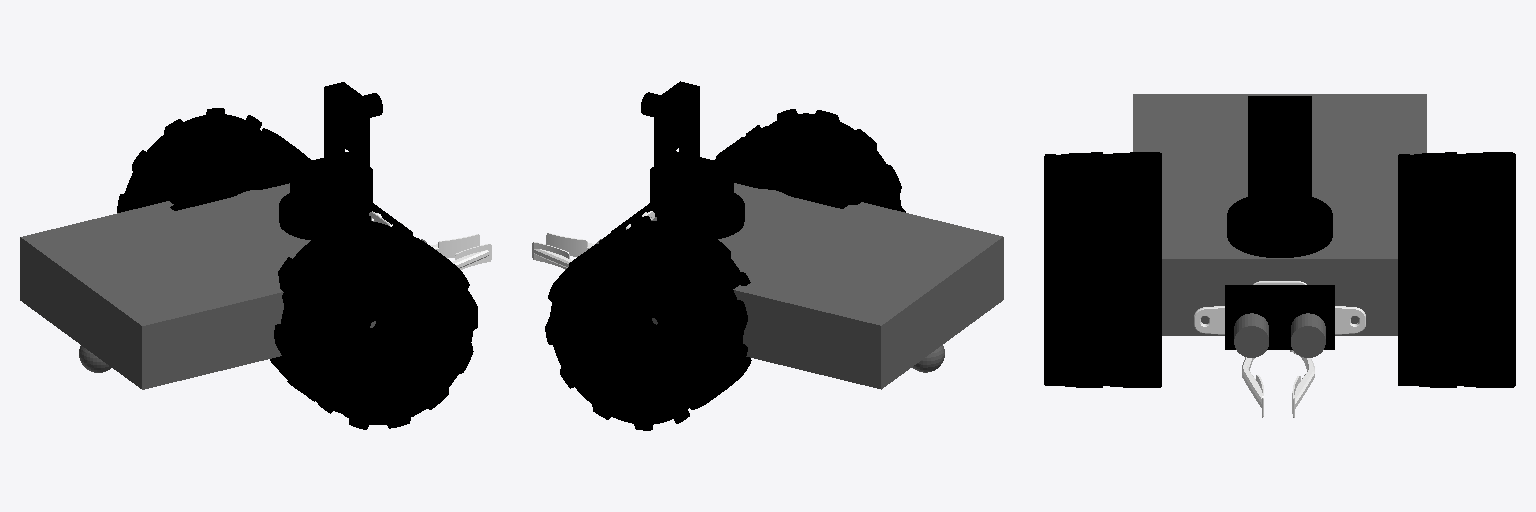
The robot description file, URDF, robot "mark":
<?xml version="1.0" encoding="utf-8"?>
<!-- =================================================================================== -->
<!-- |    This document was autogenerated by xacro from src/mark_description/urdf/mark.urdf.xacro | -->
<!-- |    EDITING THIS FILE BY HAND IS NOT RECOMMENDED                                 | -->
<!-- =================================================================================== -->
<robot name="mark">
  <material name="grey">
    <color rgba="0.45 0.45 0.45 1.0"/>
  </material>
  <material name="black">
    <color rgba="0 0 0 1.0"/>
  </material>
  <material name="blue">
    <color rgba="0 0 1.0 1.0"/>
  </material>
  <link name="world"/>
  <!-- Base -->
  <link name="base_link">
    <visual>
      <geometry>
        <box size="0.166 0.125 0.036"/>
      </geometry>
      <material name="grey"/>
    </visual>
    <collision>
      <geometry>
        <box size="0.166 0.125 0.036"/>
      </geometry>
    </collision>
  </link>
  <!-- Join the base to the "world" which will act as the unifying link of the whole robot
         This is needed for the robot to be imported properly in Unity -->
  <joint name="joint_world" type="fixed">
    <parent link="world"/>
    <child link="base_link"/>
    <origin rpy="0 0 0" xyz="0 0 0"/>
  </joint>
  <!-- Caster (i.e. back support) -->
  <link name="caster_link">
    <visual>
      <geometry>
        <sphere radius="0.010"/>
      </geometry>
      <material name="grey"/>
    </visual>
    <collision>
      <geometry>
        <sphere radius="0.010"/>
      </geometry>
    </collision>
  </link>
  <joint name="caster_to_base_joint" type="fixed">
    <parent link="base_link"/>
    <child link="caster_link"/>
    <origin xyz="-0.073 0 -0.025"/>
  </joint>
  <link name="right_wheel_link">
    <visual>
      <geometry>
        <mesh filename="package://mark_description/meshes/wheel.dae"/>
      </geometry>
    </visual>
    <collision>
      <!-- The cylinder for the collision needs to be rotated 90 degrees (in radians) -->
      <origin rpy="1.560795 0 0" xyz="0 0 0"/>
      <geometry>
        <cylinder length="0.027" radius="0.031"/>
      </geometry>
    </collision>
  </link>
  <joint name="joint_right_wheel" type="continuous">
    <parent link="base_link"/>
    <child link="right_wheel_link"/>
    <origin rpy="0 0 0" xyz="0.045 0.075 -0.005"/>
    <!-- Rotation on the y-axis -->
    <axis xyz="0 1 0"/>
  </joint>
  <link name="left_wheel_link">
    <visual>
      <geometry>
        <mesh filename="package://mark_description/meshes/wheel.dae"/>
      </geometry>
    </visual>
    <collision>
      <!-- The cylinder for the collision needs to be rotated 90 degrees (in radians) -->
      <origin rpy="1.560795 0 0" xyz="0 0 0"/>
      <geometry>
        <cylinder length="0.027" radius="0.031"/>
      </geometry>
    </collision>
  </link>
  <joint name="joint_left_wheel" type="continuous">
    <parent link="base_link"/>
    <child link="left_wheel_link"/>
    <origin rpy="0 0 0" xyz="0.045 -0.075 -0.005"/>
    <!-- Rotation on the y-axis -->
    <axis xyz="0 1 0"/>
  </joint>
  <!-- Support that provides panning -->
  <link name="camera_pan_support_link">
    <visual>
      <geometry>
        <cylinder length="0.01" radius="0.0225"/>
      </geometry>
      <material name="black"/>
    </visual>
    <collision>
      <geometry>
        <cylinder length="0.01" radius="0.0225"/>
      </geometry>
    </collision>
  </link>
  <joint name="camera_pan_support_to_base_joint" type="revolute">
    <parent link="base_link"/>
    <child link="camera_pan_support_link"/>
    <origin rpy="0 0 0" xyz="0.06 0.0 0.023"/>
    <!-- Rotation on the z-axis (pan) -->
    <axis xyz="0 0 1"/>
    <!-- -90 to 90 degrees -->
    <limit effort="1.0" lower="-1.560795" upper="1.560795" velocity="1.0"/>
  </joint>
  <!-- Support that provides base for tilting joints -->
  <link name="camera_tilt_support_link">
    <visual>
      <geometry>
        <box size="0.035 0.025 0.02"/>
      </geometry>
      <material name="black"/>
    </visual>
    <collision>
      <geometry>
        <box size="0.035 0.025 0.02"/>
      </geometry>
    </collision>
  </link>
  <joint name="camera_tilt_support_to_pan_support_joint" type="fixed">
    <parent link="camera_pan_support_link"/>
    <child link="camera_tilt_support_link"/>
    <origin rpy="0 0 0" xyz="0.005 0 0.015"/>
  </joint>
  <!-- Lateral support for lens that provide tilting (only the right will move) -->
  <link name="camera_right_lateral_support_link">
    <visual>
      <origin rpy="0 0 0" xyz="0 0 0.021"/>
      <geometry>
        <box size="0.012 0.001 0.057"/>
      </geometry>
      <material name="black"/>
    </visual>
    <collision>
      <origin rpy="0 0 0" xyz="0 0 0.021"/>
      <geometry>
        <box size="0.012 0.001 0.057"/>
      </geometry>
    </collision>
  </link>
  <joint name="camera_right_lateral_support_to_tilt_support_joint" type="revolute">
    <parent link="camera_tilt_support_link"/>
    <child link="camera_right_lateral_support_link"/>
    <origin rpy="0 0 0" xyz="0.009 0.013 0"/>
    <!-- Rotation on the y-axis (tilt) -->
    <axis xyz="0 1 0"/>
    <!-- -75 to 90 degrees -->
    <limit effort="1.0" lower="-1.309" upper="1.560795" velocity="1.0"/>
  </joint>
  <!-- Lens support -->
  <link name="camera_lens_support_link">
    <visual>
      <geometry>
        <box size="0.012 0.025 0.026"/>
      </geometry>
      <material name="black"/>
    </visual>
    <collision>
      <geometry>
        <box size="0.012 0.025 0.026"/>
      </geometry>
    </collision>
  </link>
  <joint name="camera_lens_support_to_lateral_support_joint" type="fixed">
    <parent link="camera_right_lateral_support_link"/>
    <child link="camera_lens_support_link"/>
    <origin rpy="0 0 0" xyz="0 -0.013 0.0365"/>
  </joint>
  <!-- Left lateral support for lens that does not move on its own
         Movement is controlled by thr right lateral support
         We add this so that it matches the visual design of the robot -->
  <link name="camera_left_lateral_support_link">
    <visual>
      <origin rpy="0 0 0" xyz="-0.009 0 -0.0155"/>
      <geometry>
        <box size="0.012 0.001 0.057"/>
      </geometry>
      <material name="black"/>
    </visual>
    <collision>
      <origin rpy="0 0 0" xyz="-0.009 0 -0.0155"/>
      <geometry>
        <box size="0.012 0.001 0.057"/>
      </geometry>
    </collision>
  </link>
  <!-- Join the lateral support with a fixed joint so that it moves with the whole
         camera lens when the right support moves -->
  <joint name="camera_left_lateral_support_to_lens_support_joint" type="fixed">
    <parent link="camera_lens_support_link"/>
    <child link="camera_left_lateral_support_link"/>
    <origin rpy="0 0 0" xyz="0.009 -0.013 0"/>
  </joint>
  <!-- Camera lens -->
  <link name="camera_lens_link">
    <visual>
      <geometry>
        <cylinder length="0.012" radius="0.006"/>
      </geometry>
      <material name="black"/>
    </visual>
    <collision>
      <geometry>
        <cylinder length="0.012" radius="0.006"/>
      </geometry>
    </collision>
  </link>
  <joint name="camera_lens_to_lens_support_joint" type="fixed">
    <parent link="camera_lens_support_link"/>
    <child link="camera_lens_link"/>
    <!-- Rotate 90 degrees (in radians) -->
    <origin rpy="0 1.560795 0" xyz="0.012 0 0.003"/>
  </joint>
  <link name="ultrasonic_sensor_base_link">
    <visual>
      <geometry>
        <box size="0.001 0.047 0.03"/>
      </geometry>
      <material name="black"/>
    </visual>
    <collision>
      <geometry>
        <box size="0.001 0.047 0.03"/>
      </geometry>
    </collision>
  </link>
  <joint name="ultrasonic_sensor_base_to_parent_link" type="fixed">
    <parent link="gripper_base_link"/>
    <child link="ultrasonic_sensor_base_link"/>
    <origin rpy="0 0 0" xyz="0.069 0.0 0.016"/>
  </joint>
  <link name="ultrasonic_sensor_right_link">
    <visual>
      <geometry>
        <cylinder length="0.013" radius="0.0075"/>
      </geometry>
      <material name="grey"/>
    </visual>
    <collision>
      <geometry>
        <cylinder length="0.013" radius="0.0075"/>
      </geometry>
    </collision>
  </link>
  <joint name="ultrasonic_sensor_right_to_sensor_base_joint" type="fixed">
    <parent link="ultrasonic_sensor_base_link"/>
    <child link="ultrasonic_sensor_right_link"/>
    <origin rpy="0 1.560795 0" xyz="0.0076 0.012 -0.005"/>
  </joint>
  <link name="ultrasonic_sensor_left_link">
    <visual>
      <geometry>
        <cylinder length="0.013" radius="0.0075"/>
      </geometry>
      <material name="grey"/>
    </visual>
    <collision>
      <geometry>
        <cylinder length="0.013" radius="0.0075"/>
      </geometry>
    </collision>
  </link>
  <joint name="ultrasonic_sensor_left_to_sensor_base_joint" type="fixed">
    <parent link="ultrasonic_sensor_base_link"/>
    <child link="ultrasonic_sensor_left_link"/>
    <origin rpy="0 1.560795 0" xyz="0.0076 -0.012 -0.005"/>
  </joint>
  <link name="gripper_base_link">
    <visual>
      <geometry>
        <mesh filename="package://mark_description/meshes/gripper_base.dae"/>
      </geometry>
    </visual>
    <collision>
      <geometry>
        <box size="0.015 0.073 0.03"/>
      </geometry>
      <origin rpy="0 0 0" xyz="0.0613 0 0.016"/>
    </collision>
  </link>
  <joint name="gripper_base_to_robot_base_link" type="fixed">
    <parent link="base_link"/>
    <child link="gripper_base_link"/>
    <origin rpy="0 0 0" xyz="0.03 0.0 -0.018"/>
  </joint>
  <link name="gripper_arm_a_link">
    <visual>
      <origin rpy="0 0 0" xyz="0.015 0 0"/>
      <geometry>
        <mesh filename="package://mark_description/meshes/gripper_arm_a.dae"/>
      </geometry>
    </visual>
    <collision>
      <origin rpy="0 0 0" xyz="0.031 0 0"/>
      <geometry>
        <box size="0.07 0.01 0.01"/>
      </geometry>
    </collision>
  </link>
  <joint name="gripper_arm_a_to_gripper_base_joint" type="revolute">
    <parent link="gripper_base_link"/>
    <child link="gripper_arm_a_link"/>
    <origin rpy="0 0 0" xyz="0.06 -0.01 0"/>
    <!-- Rotation on the z-axis -->
    <axis xyz="0 0 1"/>
    <!-- -90 to ~5 degrees (radians) so that the two arms can meet -->
    <limit effort="1.0" lower="-1.560795" upper="0.09" velocity="1.0"/>
  </joint>
  <link name="gripper_arm_b_link">
    <visual>
      <origin rpy="0 0 0" xyz="0.031 0 0"/>
      <geometry>
        <mesh filename="package://mark_description/meshes/gripper_arm_b.dae"/>
      </geometry>
    </visual>
    <collision>
      <origin rpy="0 0 0" xyz="0.031 0 0"/>
      <geometry>
        <box size="0.07 0.01 0.01"/>
      </geometry>
    </collision>
  </link>
  <joint name="gripper_arm_b_to_gripper_base_joint" type="revolute">
    <parent link="gripper_base_link"/>
    <child link="gripper_arm_b_link"/>
    <origin rpy="0 0 0" xyz="0.06 0.01 0"/>
    <!-- Rotation on the z-axis -->
    <axis xyz="0 0 -1"/>
    <!-- -90 to ~5 degrees (radians) so that the two arms can meet -->
    <limit effort="1.0" lower="-1.560795" upper="0.09" velocity="1.0"/>
  </joint>
  <!--Disable collisions between the grippers, the base and the ultrasonic sensor
        This allows the grippers to open and close smoothly
        See: https://github.com/Unity-Technologies/Unity-Robotics-Hub/blob/main/tutorials/urdf_importer/urdf_appendix.md#disable-collision-support -->
  <disable_collision link1="gripper_arm_a_link" link2="gripper_base_link"/>
  <disable_collision link1="gripper_arm_b_link" link2="gripper_base_link"/>
  <disable_collision link1="gripper_arm_a_link" link2="ultrasonic_sensor_base_link"/>
  <disable_collision link1="gripper_arm_b_link" link2="ultrasonic_sensor_base_link"/>
  <disable_collision link1="gripper_arm_a_link" link2="ultrasonic_sensor_left_link"/>
  <disable_collision link1="gripper_arm_b_link" link2="ultrasonic_sensor_right_link"/>
</robot>

--- Facts derived from the render (not from the file) ---
The picture shows the robot from 3 angles, left to right: view 1: azimuth 30°, elevation 25°; view 2: azimuth 150°, elevation 25°; view 3: azimuth 270°, elevation 25°; orthographic projection.
Robot: mark — 17 links, 16 joints (4 revolute, 2 continuous, 10 fixed); root link world; default pose: all joints at 0.
Visible links, largest first — view 1: base_link, left_wheel_link, right_wheel_link, camera_tilt_support_link, camera_left_lateral_support_link, camera_pan_support_link, camera_lens_support_link, gripper_arm_a_link, gripper_arm_b_link; view 2: base_link, right_wheel_link, left_wheel_link, camera_tilt_support_link, camera_right_lateral_support_link, camera_pan_support_link, camera_lens_support_link, gripper_arm_b_link, gripper_arm_a_link; view 3: base_link, right_wheel_link, left_wheel_link, ultrasonic_sensor_base_link, camera_tilt_support_link, camera_pan_support_link, camera_lens_support_link, gripper_base_link, ultrasonic_sensor_right_link, ultrasonic_sensor_left_link, camera_lens_link, gripper_arm_b_link (+1 smaller).
Link boxes in pixels (x1,y1,x2,y2): base_link: (20, 183, 375, 389); left_wheel_link: (270, 215, 477, 429); right_wheel_link: (117, 108, 311, 212); camera_tilt_support_link: (290, 152, 372, 218); camera_left_lateral_support_link: (349, 101, 369, 206); camera_pan_support_link: (279, 193, 366, 239); camera_lens_support_link: (325, 83, 368, 150); gripper_arm_a_link: (452, 244, 491, 269); gripper_arm_b_link: (430, 234, 479, 258); base_link: (651, 183, 1003, 389); right_wheel_link: (545, 216, 751, 430); left_wheel_link: (714, 109, 905, 212); camera_tilt_support_link: (650, 151, 733, 218); camera_right_lateral_support_link: (654, 100, 674, 205); camera_pan_support_link: (657, 193, 744, 238); camera_lens_support_link: (655, 82, 698, 150); gripper_arm_b_link: (532, 242, 572, 269); gripper_arm_a_link: (546, 233, 594, 256); base_link: (1133, 94, 1426, 335); right_wheel_link: (1398, 152, 1515, 387); left_wheel_link: (1044, 152, 1161, 387); ultrasonic_sensor_base_link: (1225, 285, 1334, 349); camera_tilt_support_link: (1251, 163, 1308, 236); camera_pan_support_link: (1227, 197, 1332, 257); camera_lens_support_link: (1251, 96, 1308, 162); gripper_base_link: (1194, 281, 1365, 351); ultrasonic_sensor_right_link: (1291, 313, 1325, 357); ultrasonic_sensor_left_link: (1234, 313, 1268, 357); camera_lens_link: (1266, 116, 1293, 153); gripper_arm_b_link: (1292, 350, 1314, 417).
Size in the robot's own frame: 0.239 by 0.2 by 0.1425 metres.
Meshes: 4 distinct files referenced, 5 mesh visuals loaded (4 Collada DAE).
